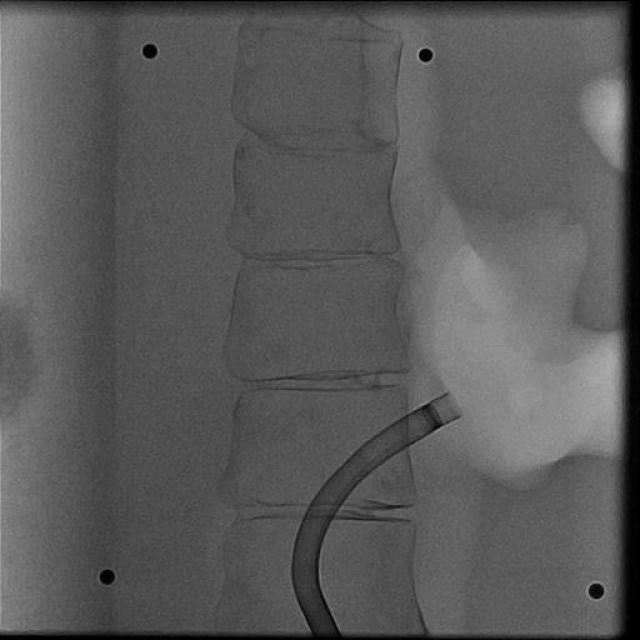bend: (292, 569, 319, 589)
entry: (310, 627, 340, 635)
marker: (419, 403, 443, 431)
tip: (449, 393, 465, 416)
